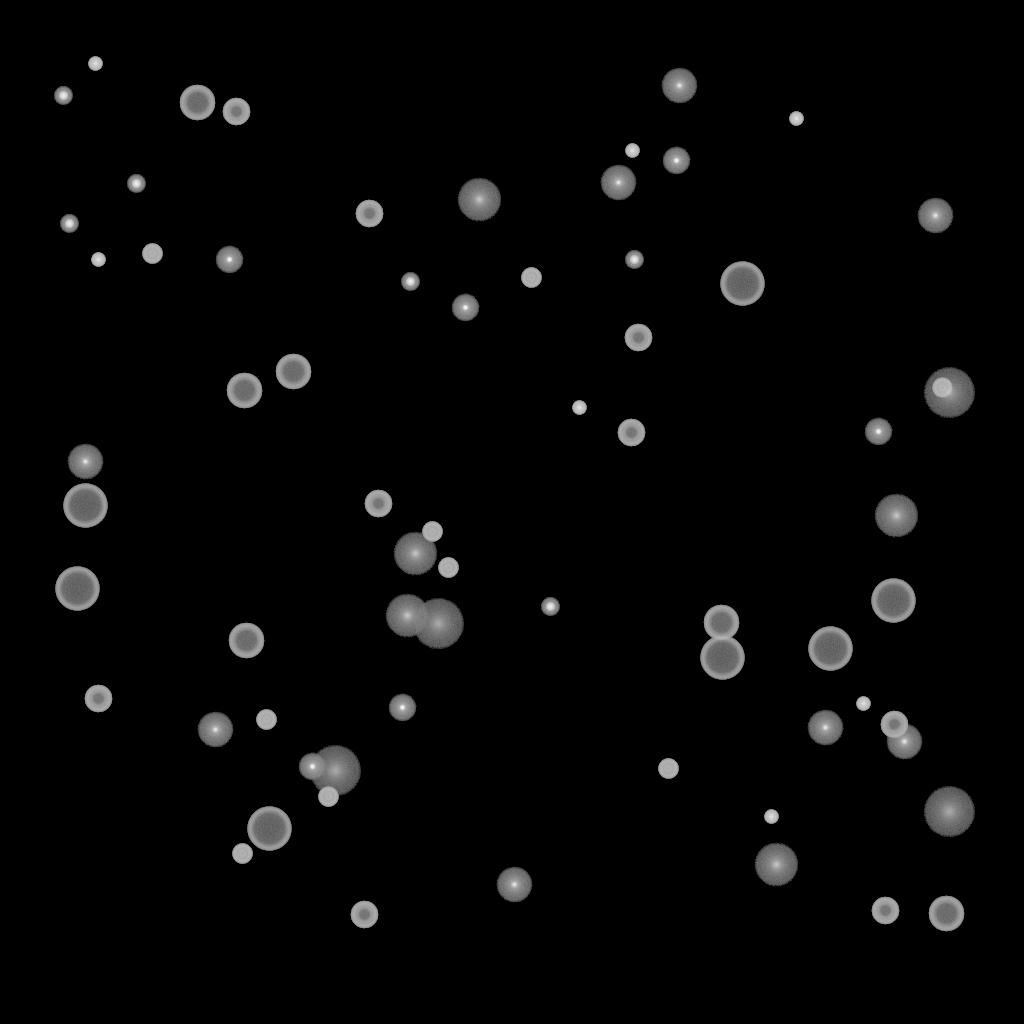depth:-10: (298, 753, 326, 781), (215, 246, 243, 274), (864, 418, 892, 446), (451, 294, 479, 322), (662, 147, 690, 175), (388, 694, 416, 722)
depth:-20: (54, 87, 72, 105), (541, 598, 559, 616), (127, 175, 145, 193), (60, 215, 78, 233), (401, 273, 419, 291), (625, 251, 643, 269)
depth:-30: (789, 112, 803, 126), (764, 810, 778, 824), (625, 144, 639, 158), (572, 401, 586, 415), (91, 253, 105, 267), (856, 697, 870, 711), (88, 57, 102, 71)
depth:-40: (232, 844, 252, 864), (438, 558, 458, 578), (932, 378, 952, 398), (318, 787, 338, 807), (422, 522, 442, 542), (521, 268, 541, 288), (658, 759, 678, 779), (256, 710, 276, 730), (142, 244, 162, 264)
depth:-50: (880, 711, 908, 739), (364, 490, 392, 518), (617, 419, 645, 447), (624, 324, 652, 352), (355, 200, 383, 228), (84, 685, 112, 713), (222, 98, 250, 126), (350, 901, 378, 929), (871, 897, 899, 925)
depth:-60: (226, 373, 262, 409), (275, 354, 311, 390), (179, 85, 215, 121), (228, 623, 264, 659), (928, 896, 964, 932), (703, 605, 739, 641)
depth:-70: (63, 484, 107, 528), (720, 262, 764, 306), (871, 579, 915, 623), (808, 627, 852, 671), (55, 567, 99, 611), (700, 636, 744, 680), (247, 807, 291, 851)
depth:0: (496, 867, 532, 903), (886, 724, 922, 760), (661, 68, 697, 104), (197, 712, 233, 748), (67, 444, 103, 480), (917, 198, 953, 234), (807, 710, 843, 746), (600, 165, 636, 201)
depth:10: (874, 494, 918, 538), (754, 843, 798, 887), (385, 594, 429, 638), (457, 178, 501, 222), (393, 532, 437, 576)
depth:20: (309, 746, 361, 796), (923, 368, 975, 418), (923, 787, 975, 837), (412, 599, 464, 649)
